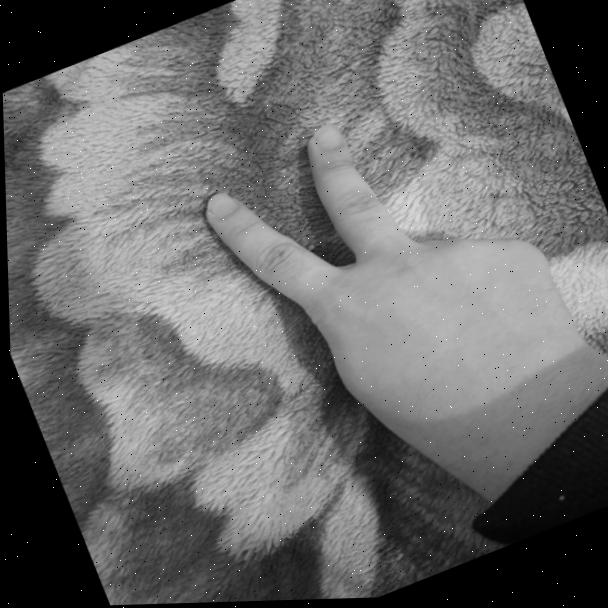two: (184, 67, 590, 505)
